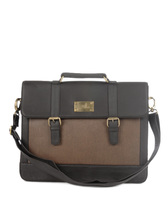bag: (7, 70, 163, 189)
